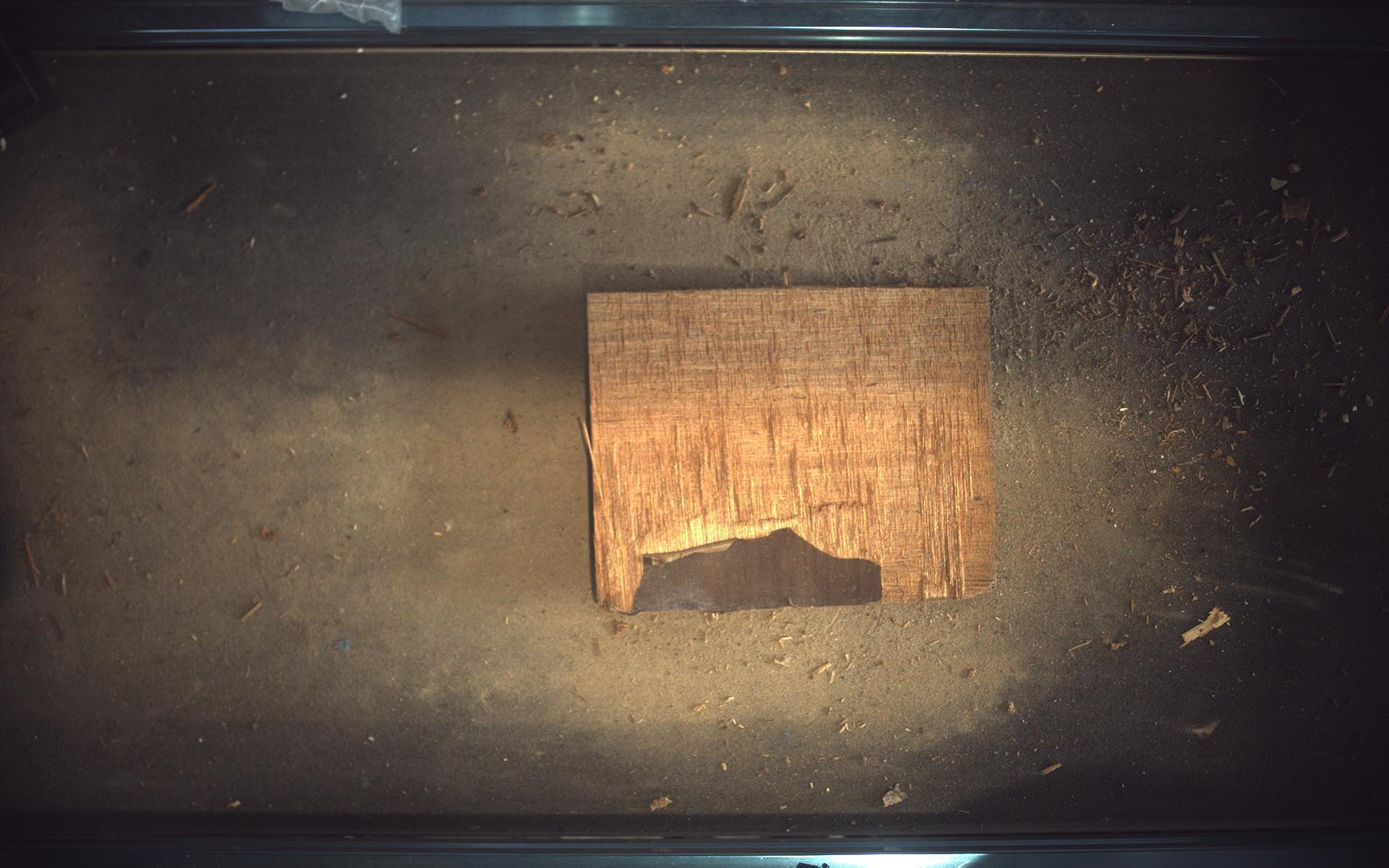wood: (588, 287, 997, 613)
